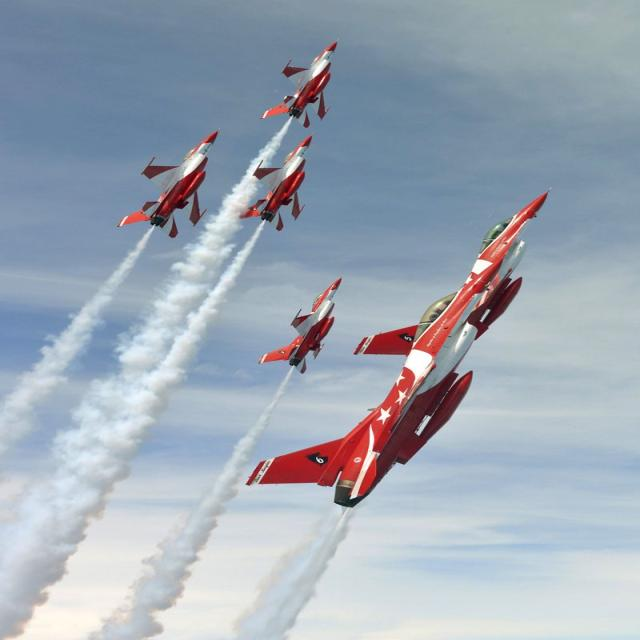MIL_Plane: (244, 249, 511, 508), (350, 186, 554, 356), (116, 127, 222, 239), (258, 275, 344, 375), (238, 132, 315, 232), (259, 39, 339, 128)
